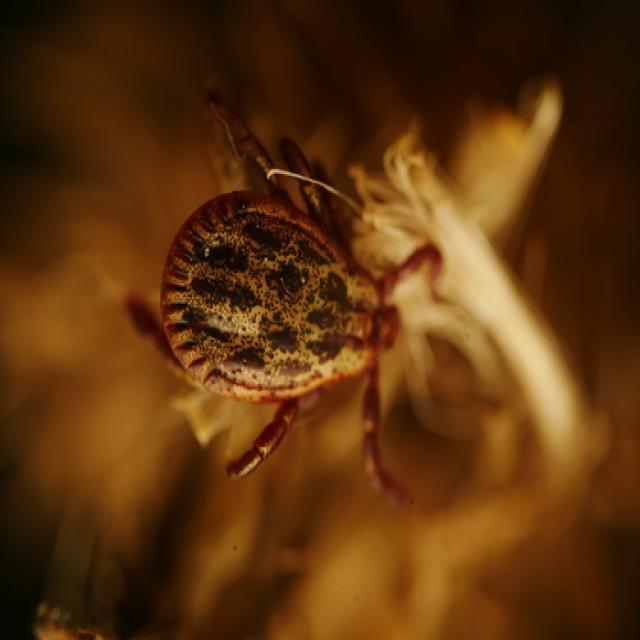Dermacentor Reticulatus-M: (123, 94, 440, 509)
